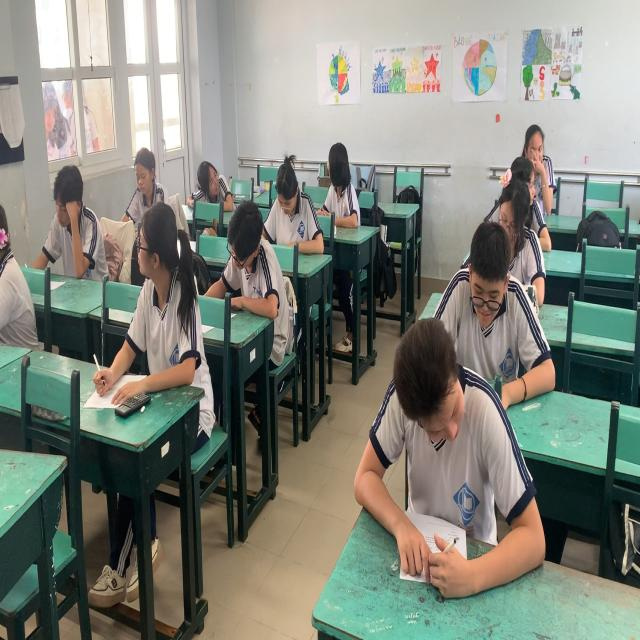cheating: (126, 198, 206, 368), (314, 132, 365, 233), (184, 150, 240, 225)
not_cheating: (373, 319, 530, 593), (444, 220, 550, 378), (37, 164, 108, 291), (491, 164, 546, 302), (225, 205, 281, 330), (256, 150, 315, 233), (518, 118, 554, 205), (120, 146, 167, 205)
